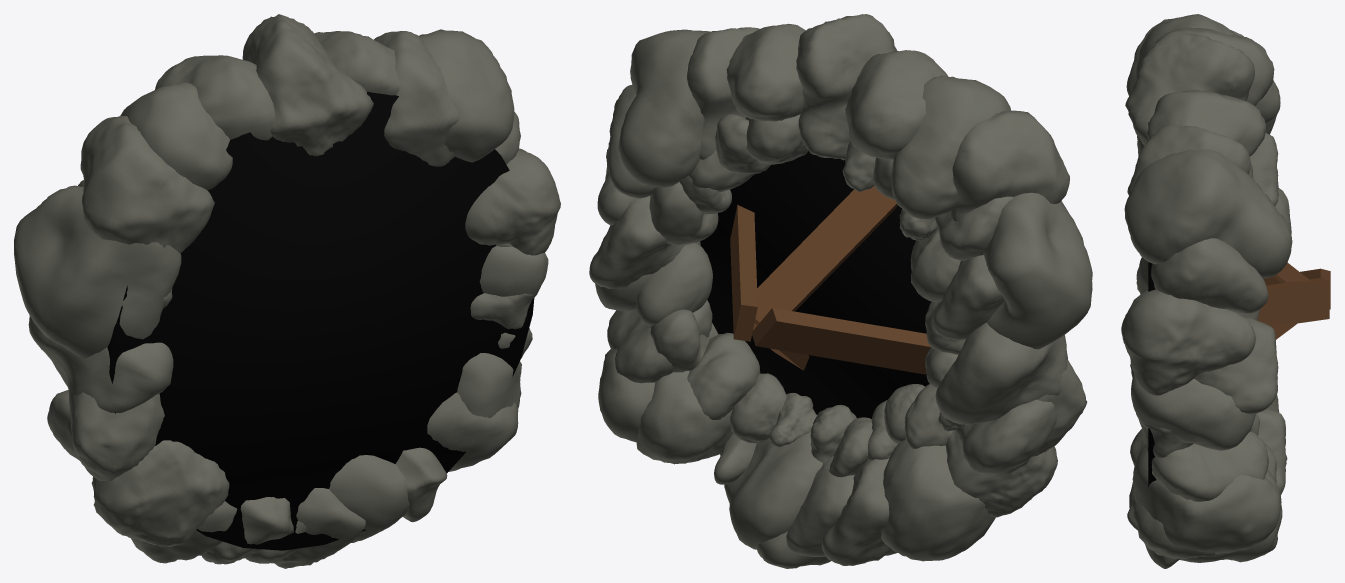
Rendered from Campfire.fbx.
3 renders of one model, left to right at view 1: azimuth 30°, elevation 25°; view 2: azimuth 150°, elevation 25°; view 3: azimuth 270°, elevation 25°, orthographic. The views are drawn at different scales.
Visible parts, largest first — view 1: Campfire; view 2: Campfire; view 3: Campfire.
Boxes of the visible parts, <box> form: Campfire: <box>14,14,560,568</box>; Campfire: <box>589,14,1092,568</box>; Campfire: <box>1121,14,1330,568</box>.
Size of the model in its own units: 431 by 446 by 165.
